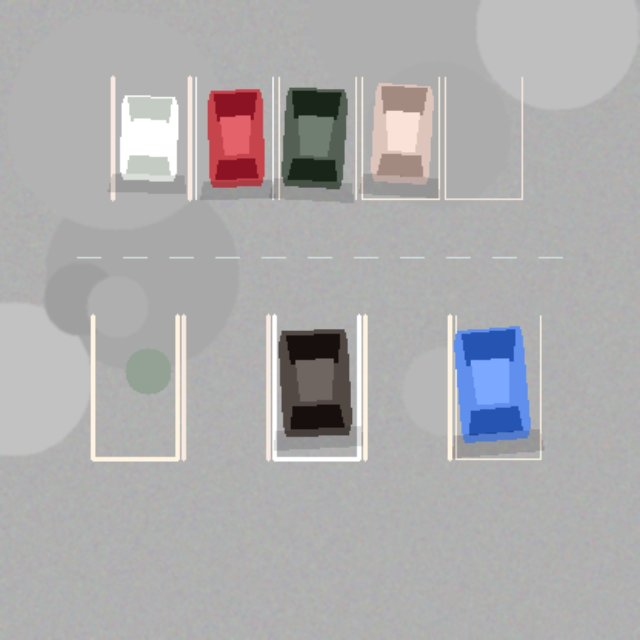space-empty: (92, 315, 177, 458), (183, 315, 268, 458), (365, 315, 449, 458), (445, 77, 522, 198)
space-occupied: (455, 315, 540, 458), (274, 315, 358, 458), (112, 77, 189, 198), (195, 77, 272, 198), (278, 77, 355, 198), (362, 77, 438, 198)
